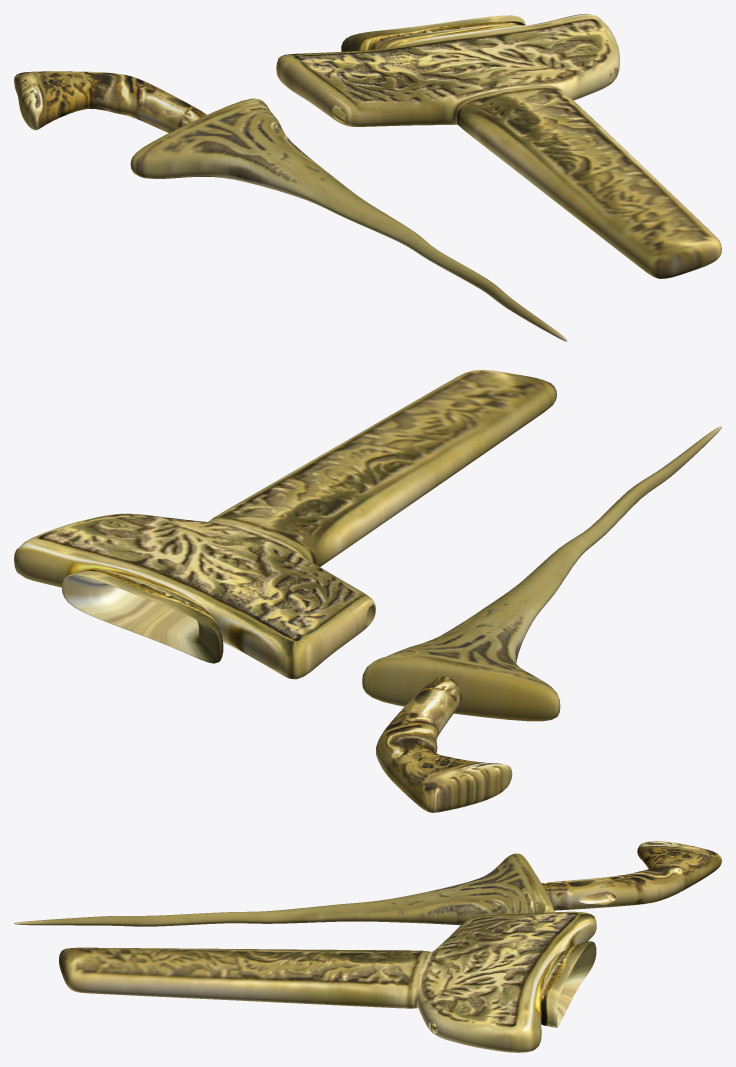
File: KERIS TEMBAGA.fbx
3 renders of one model, top to bottom at view 1: azimuth 30°, elevation 25°; view 2: azimuth 150°, elevation 25°; view 3: azimuth 270°, elevation 25°, orthographic. The views are drawn at different scales.
Visible parts, largest first — view 1: pCube1, pCube3, pCube2; view 2: pCube1, pCube3, pCube2; view 3: pCube1, pCube3, pCube2.
Part boxes in pixels (x1,y1,x2,y2): pCube1: (276, 14, 721, 278); pCube3: (130, 98, 567, 341); pCube2: (14, 71, 206, 133); pCube1: (14, 370, 556, 679); pCube3: (362, 426, 721, 721); pCube2: (376, 676, 512, 812); pCube1: (59, 911, 596, 1052); pCube3: (14, 853, 554, 926); pCube2: (541, 841, 721, 910).
Size of the model in its own units: 142 by 15.57 by 199.
1 material, 1 textured.
